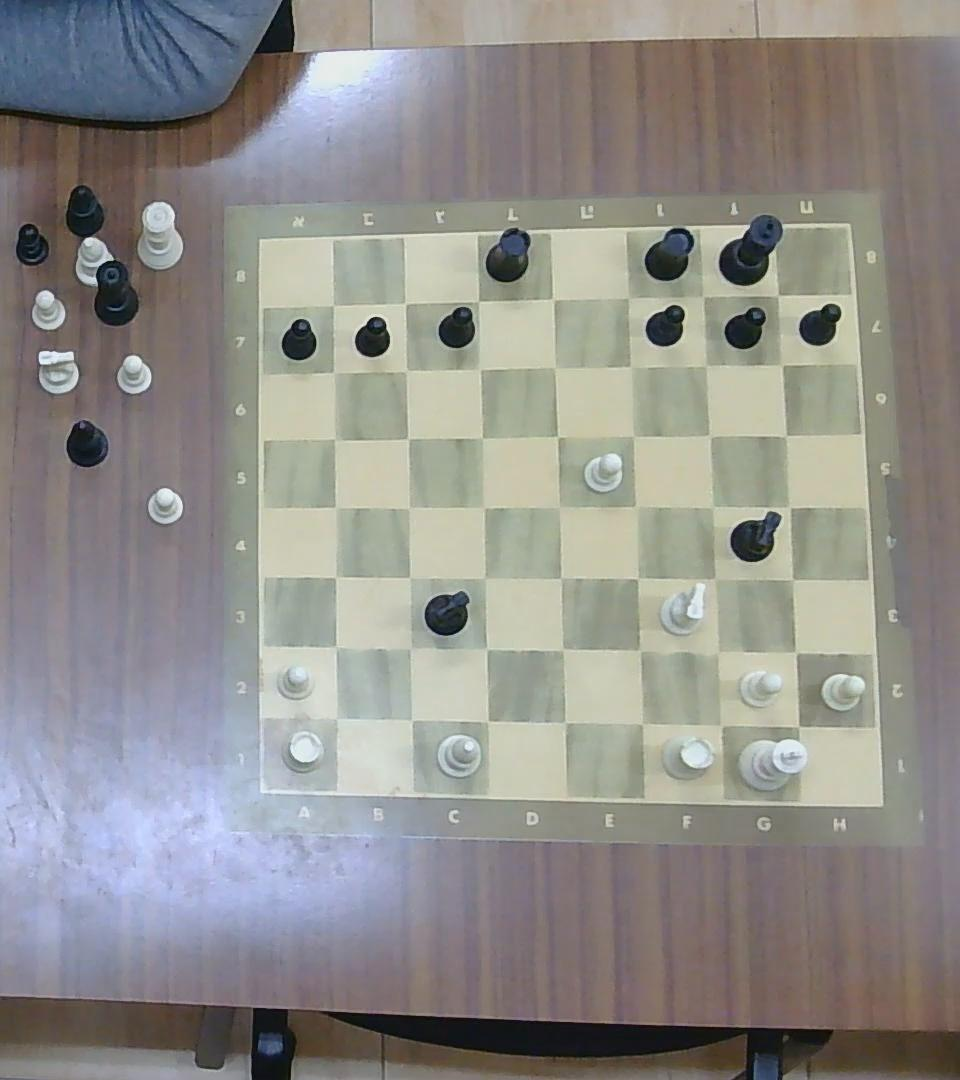xcorner: (624, 705, 658, 739), (702, 707, 737, 740), (781, 708, 813, 742), (701, 635, 734, 667), (470, 704, 502, 736), (624, 633, 655, 665), (548, 706, 579, 738), (470, 632, 501, 663), (320, 701, 351, 732), (780, 637, 811, 668), (395, 703, 425, 734), (394, 632, 424, 663), (622, 563, 652, 593), (547, 634, 577, 664), (470, 563, 500, 593), (547, 563, 576, 593), (320, 562, 350, 591), (776, 564, 806, 593), (615, 351, 645, 380), (469, 491, 498, 520), (700, 564, 729, 593), (622, 491, 651, 520), (698, 491, 727, 520), (394, 562, 423, 591), (775, 491, 804, 520), (320, 632, 350, 660), (545, 491, 573, 520), (619, 421, 648, 449), (466, 423, 495, 450), (543, 421, 571, 448), (395, 492, 423, 519), (393, 423, 421, 450), (538, 285, 566, 312), (615, 283, 643, 310), (692, 352, 720, 379), (323, 494, 349, 521), (696, 422, 723, 448), (322, 425, 348, 451), (465, 287, 491, 313), (393, 356, 418, 382), (541, 353, 567, 378), (690, 284, 716, 309), (768, 350, 794, 375), (322, 358, 348, 383), (466, 355, 491, 380), (773, 421, 798, 446), (391, 290, 416, 313), (322, 292, 345, 315), (767, 284, 790, 306)
